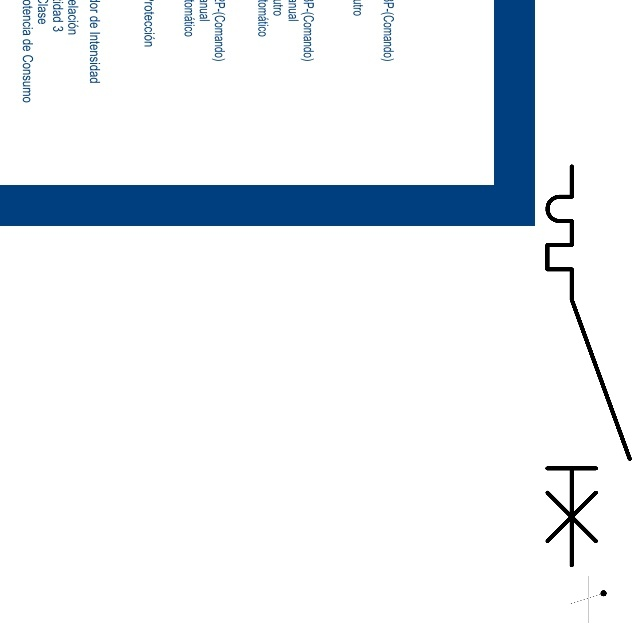interruptor_termomagnetico: (537, 156, 639, 576)
